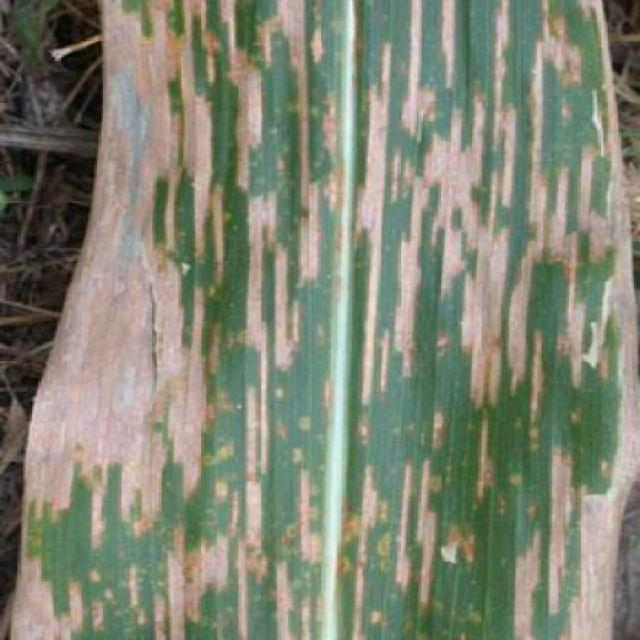Corn_Grey_Leaf_Spot: (58, 0, 640, 640)
